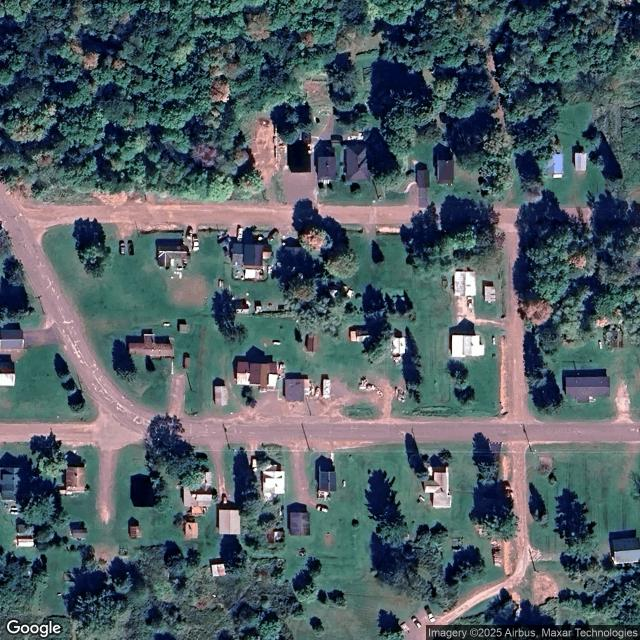Propane: (273, 341, 281, 346), (420, 496, 426, 502), (10, 511, 19, 515), (492, 337, 496, 345), (163, 323, 171, 327), (599, 342, 603, 349), (343, 481, 346, 488), (11, 507, 18, 510)
